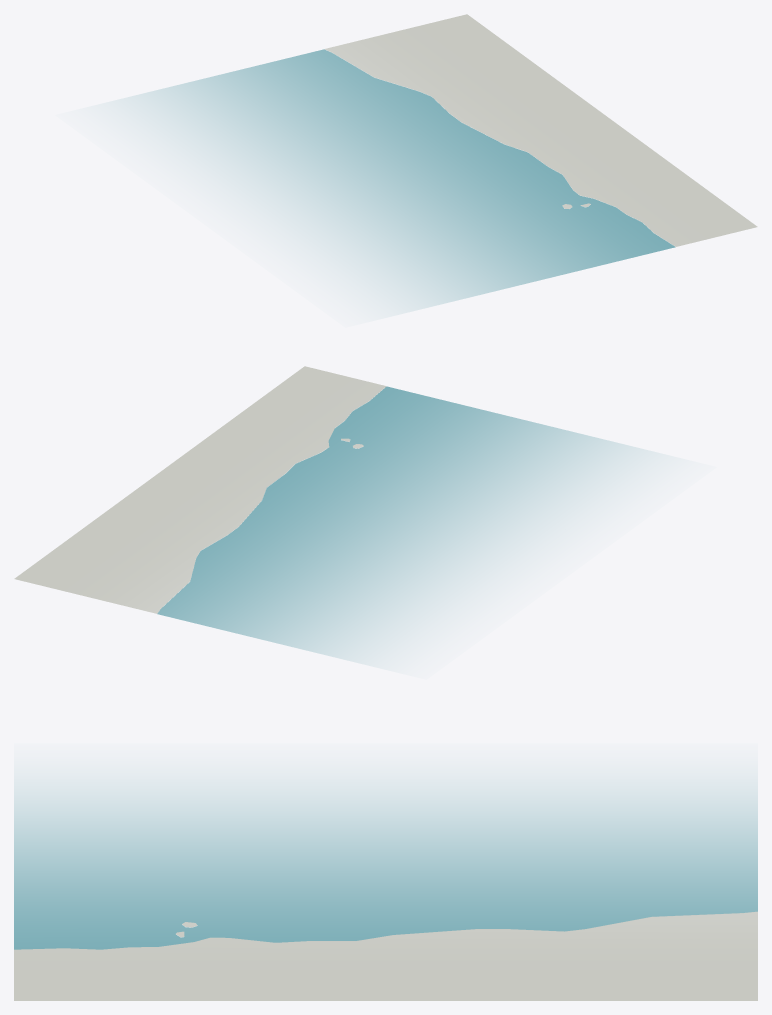
3 renders of one model, top to bottom at view 1: azimuth 30°, elevation 25°; view 2: azimuth 150°, elevation 25°; view 3: azimuth 270°, elevation 25°, orthographic. The views are drawn at different scales.
Parts seen in each view (by area): view 1: city; view 2: city; view 3: city.
Boxes of the visible parts, <box> form: city: <box>116,14,757,312</box>; city: <box>14,366,655,664</box>; city: <box>14,781,757,1000</box>.
Bounding box in the file's own units: 450 × 0.18 × 500.
